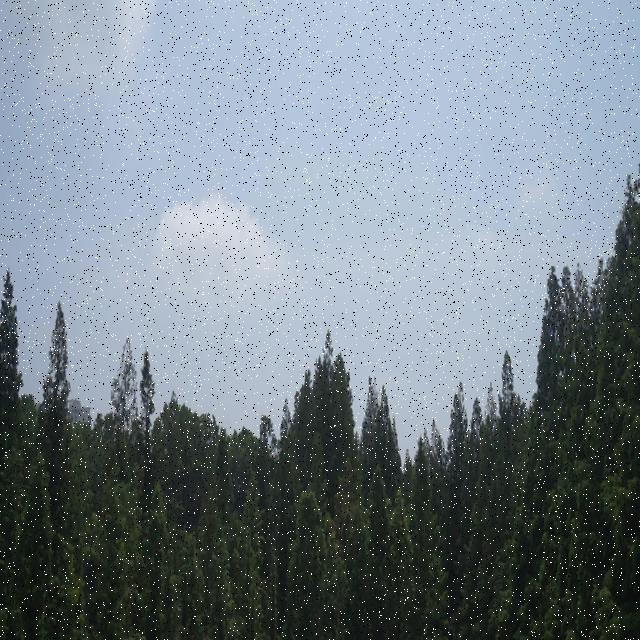UAV: (270, 448, 282, 462)
